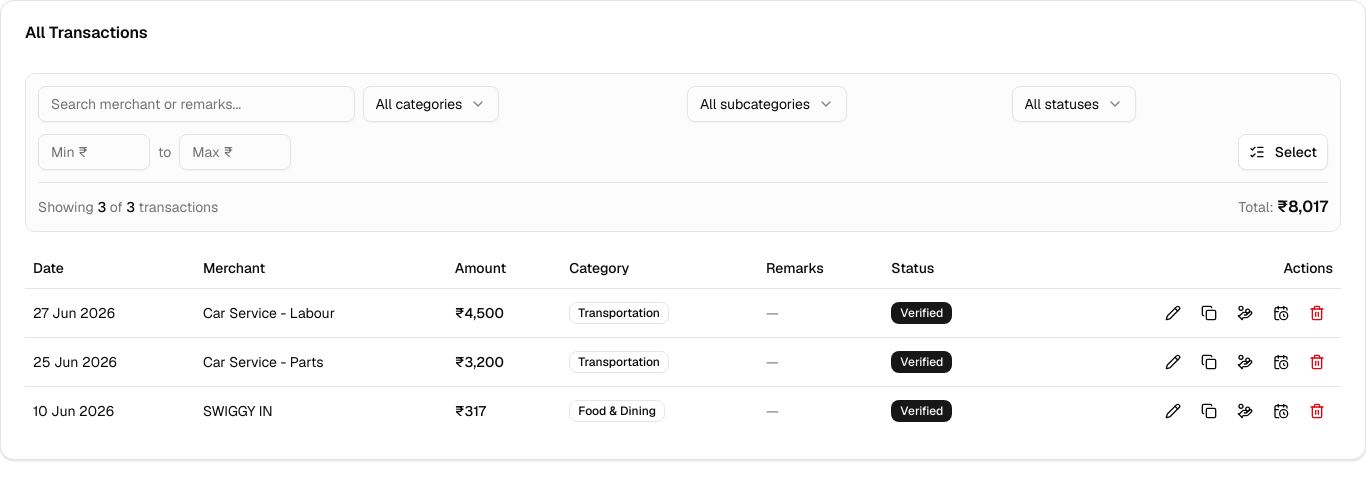
TransactionTable selection mode › shows checkboxes and a group button after entering selection mode
Click the button "Select" at (1283, 152), box [1238, 134, 1328, 170]
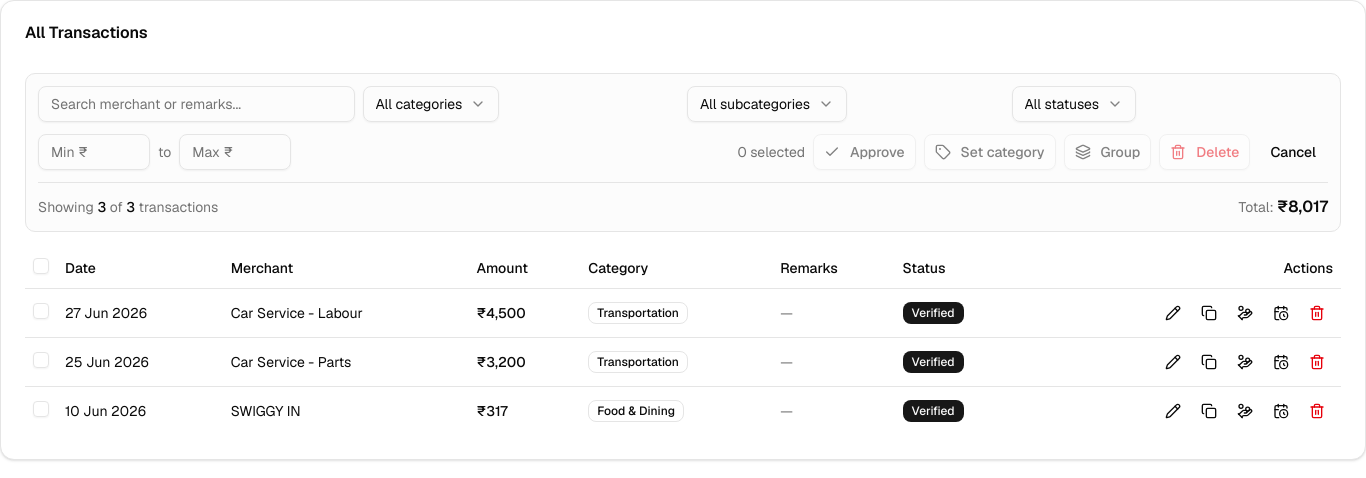
Expected: the checkbox named "Select all visible" is shown, [33, 258, 49, 274]
Expected: the number of checkboxes is 4, [33, 258, 49, 274]; [33, 302, 49, 318]; [33, 352, 49, 368]; [33, 400, 49, 416]
